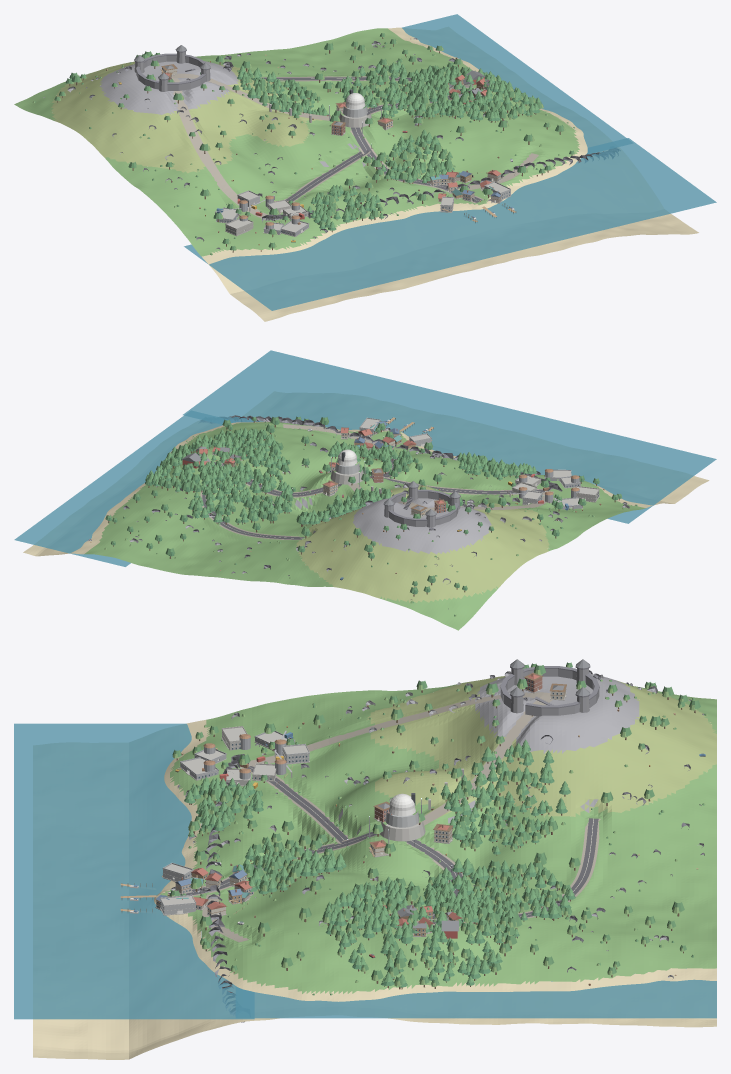
The model's file is battle_royale_map.glb.
3 renders of one model, top to bottom at view 1: azimuth 30°, elevation 25°; view 2: azimuth 150°, elevation 25°; view 3: azimuth 270°, elevation 25°, orthographic. The views are drawn at different scales.
Parts seen in each view (by area): view 1: Terrain_0, Terrain_3, Water_0, Vegetation_2, Terrain_2, Terrain_1, Vegetation_1, Roads_2, Vegetation_3, Rocks_0, Roads_0, POI_Industrial_0 (+5 smaller); view 2: Water_0, Terrain_3, Terrain_0, Terrain_2, Vegetation_2, Vegetation_1, Terrain_1, Rocks_0, Roads_2, POI_Industrial_0, Roads_0, POI_Fortress_0 (+4 smaller); view 3: Terrain_3, Terrain_0, Water_0, Vegetation_2, Terrain_2, Vegetation_3, Terrain_1, Vegetation_1, Roads_2, Roads_0, Rocks_0, POI_Industrial_0 (+8 smaller).
Part boxes in pixels (x1,y1,x2,y2): Terrain_0: (202,27,698,321); Terrain_3: (14,28,579,256); Water_0: (184,14,716,310); Vegetation_2: (34,33,574,255); Terrain_2: (50,61,322,173); Terrain_1: (99,61,365,166); Vegetation_1: (54,34,569,249); Roads_2: (171,73,538,219); Vegetation_3: (33,34,574,254); Rocks_0: (86,55,620,249); Roads_0: (261,77,482,215); POI_Industrial_0: (215,191,309,236); Water_0: (14,350,716,566); Terrain_3: (84,422,645,630); Terrain_0: (23,392,709,556); Terrain_2: (296,485,549,602); Vegetation_2: (105,416,637,616); Vegetation_1: (108,419,621,594); Terrain_1: (295,497,491,554); Rocks_0: (123,415,627,575); Roads_2: (200,424,553,540); POI_Industrial_0: (509,470,599,509); Roads_0: (202,458,547,539); POI_Fortress_0: (384,488,460,527); Terrain_3: (160,682,716,993); Terrain_0: (33,720,716,1059); Water_0: (14,723,716,1019); Vegetation_2: (169,662,706,995); Terrain_2: (366,676,716,818); Vegetation_3: (170,665,707,994); Terrain_1: (338,673,639,862); Vegetation_1: (184,747,575,987); Roads_2: (167,692,600,942); Roads_0: (168,766,598,923); Rocks_0: (177,670,701,1022); POI_Industrial_0: (179,726,309,786).
Bounding box in the file's own units: 512 × 132 × 514.
